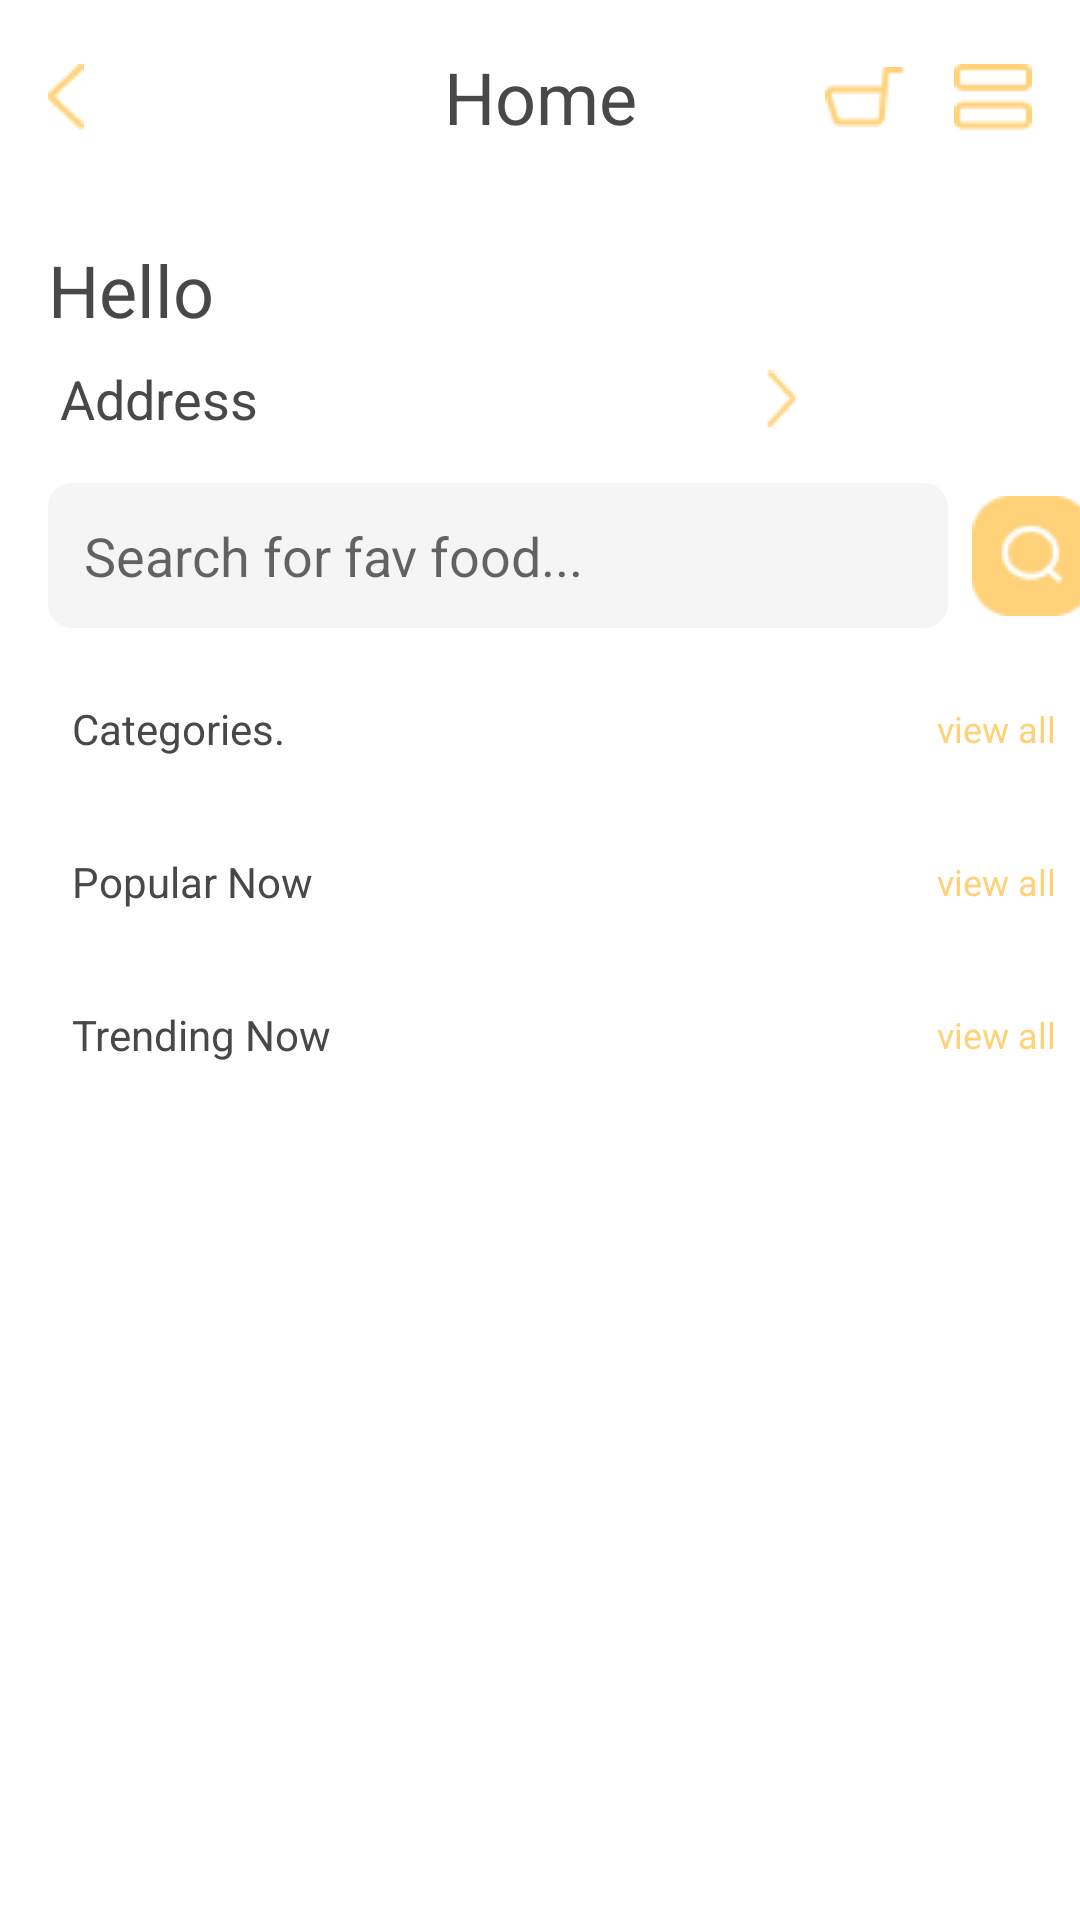

Point at icon controls on the screen. Image size 1080x1920, points as [x,y].
cart: [864,97]
left arrow: [66,97]
